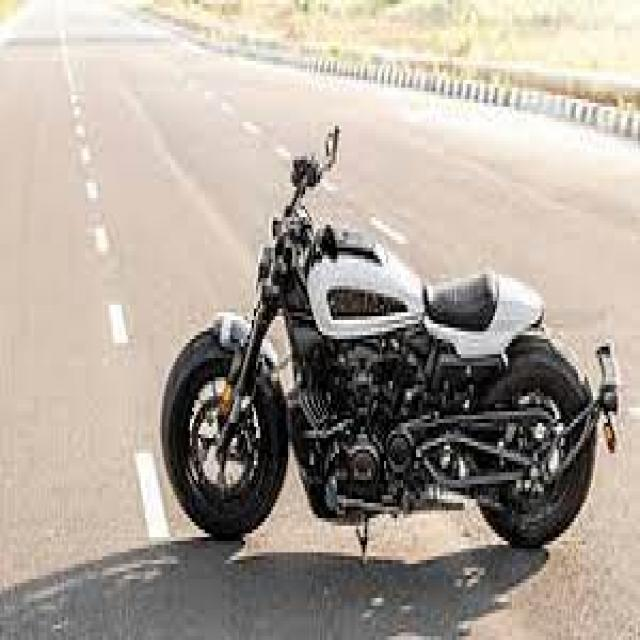Bike: (160, 125, 618, 551)
